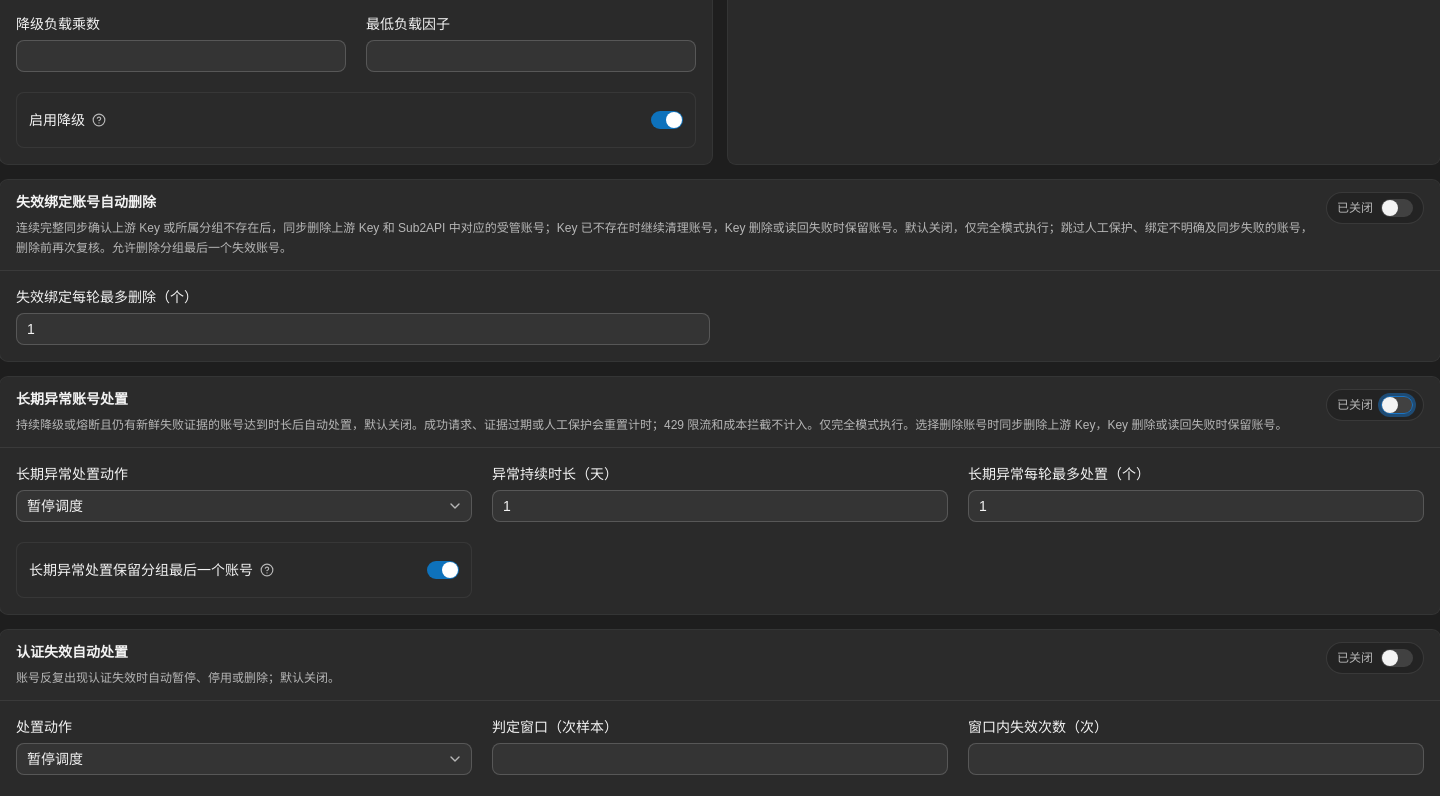
Test: 开关支持键盘切换，修改时长和动作只更新长期异常配置
(page scrolled)
Type keys " "
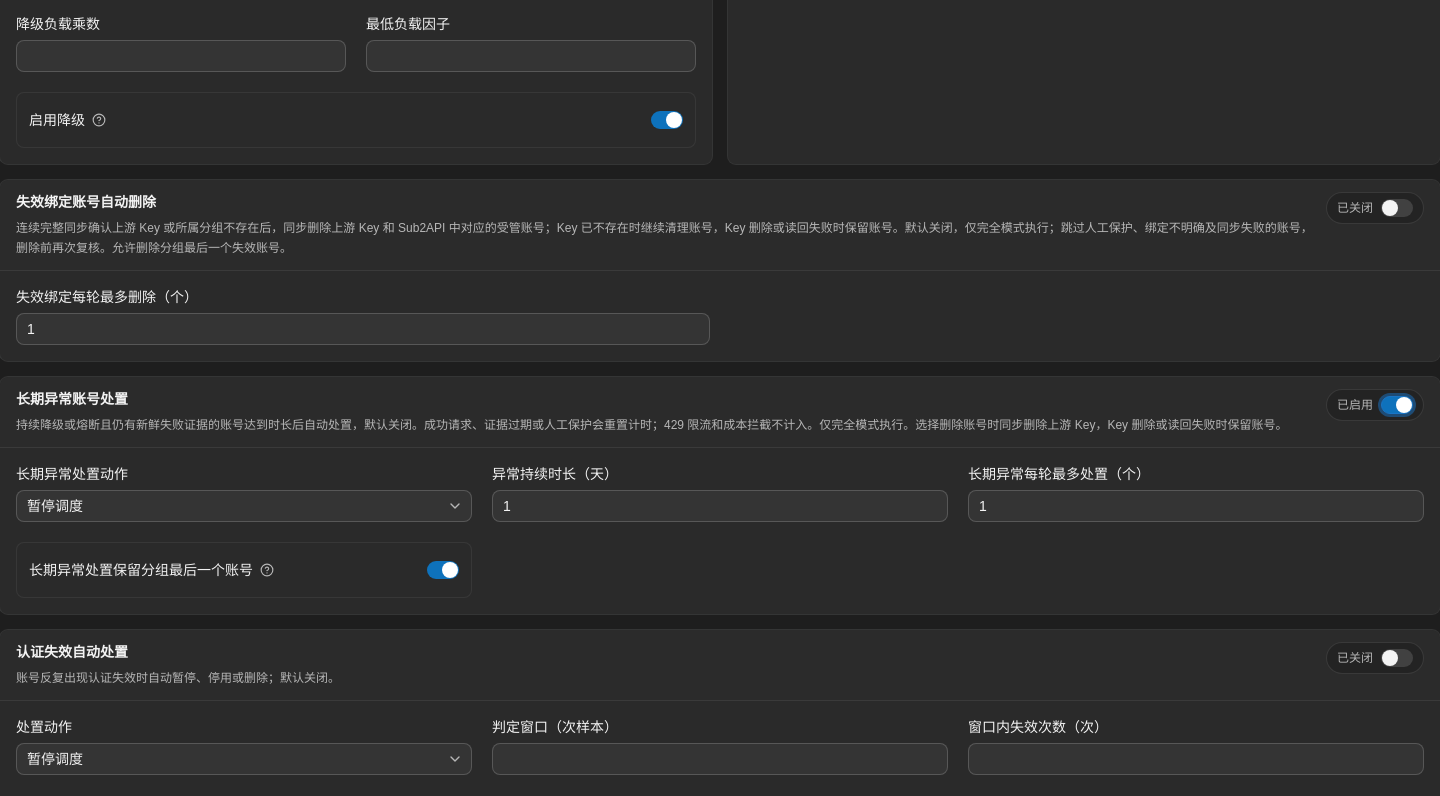
Check: the switch named "启用长期异常账号处置" is checked, box [1381,396,1413,414]
Replace the text in the number field named "异常持续时长（天）" with "3". click: (720, 506)
box: [492,490,948,522]
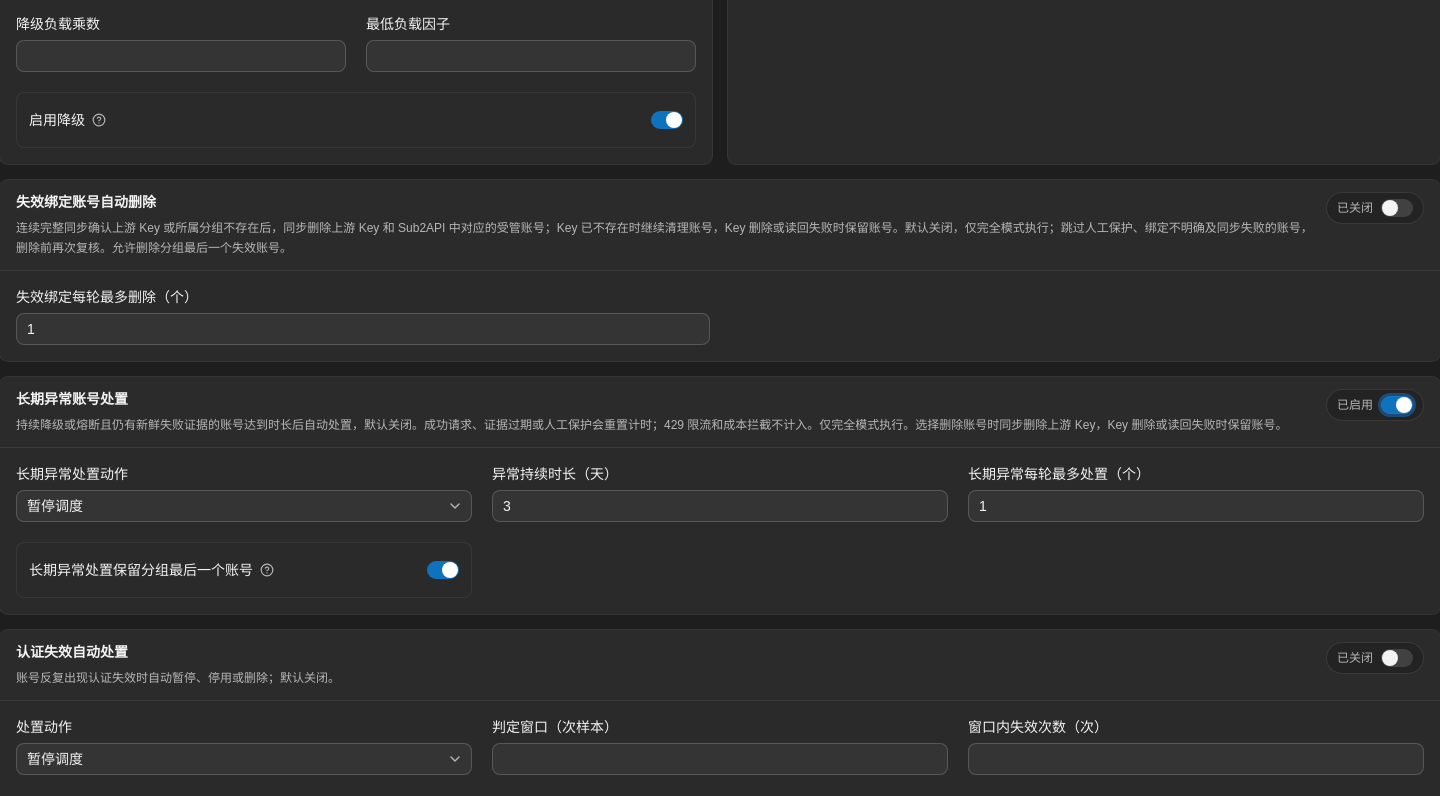
Click the dropdown named "长期异常处置动作". click: (55, 506)
box: [16,490,472,522]
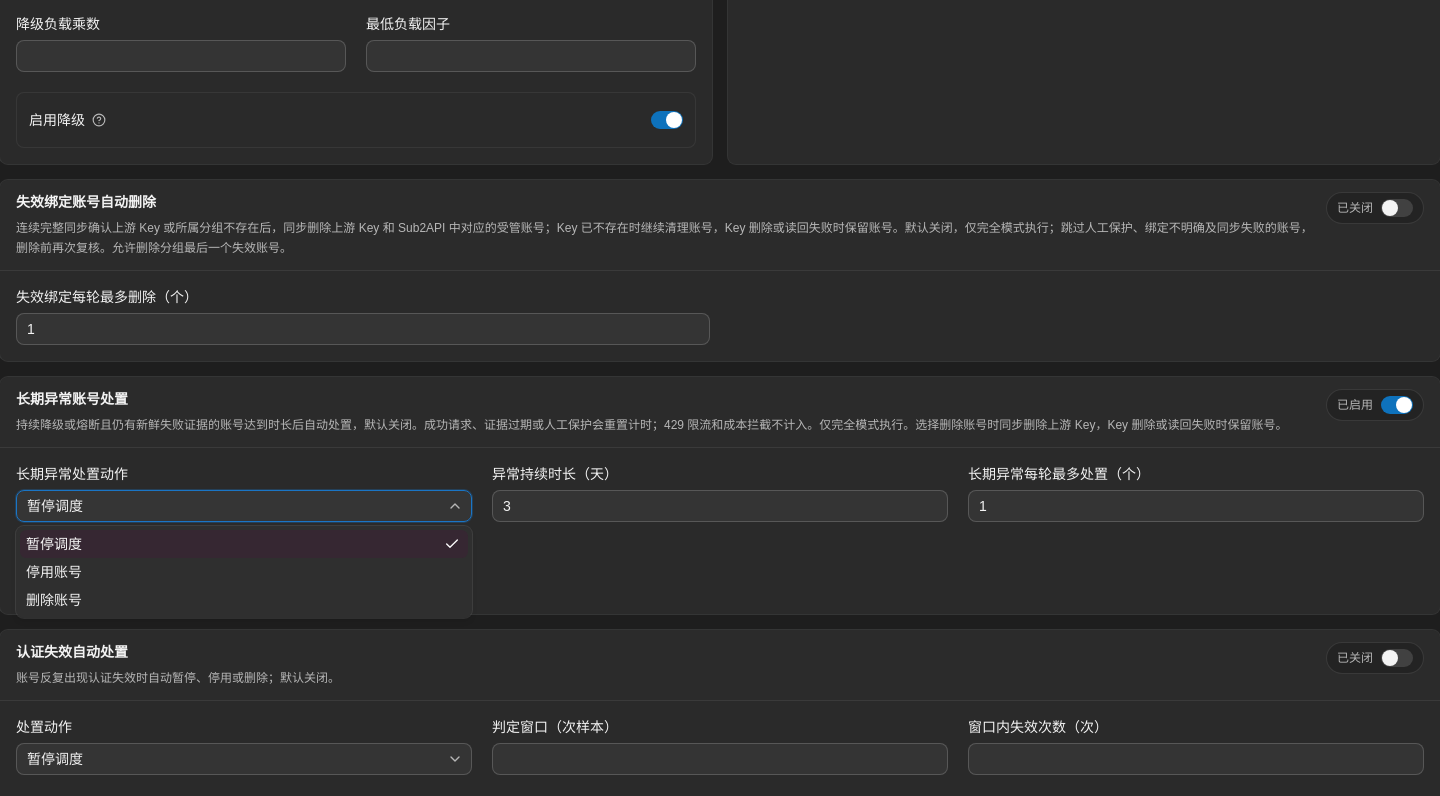
Click the option "停用账号". click: (54, 572)
box: [26,564,82,580]
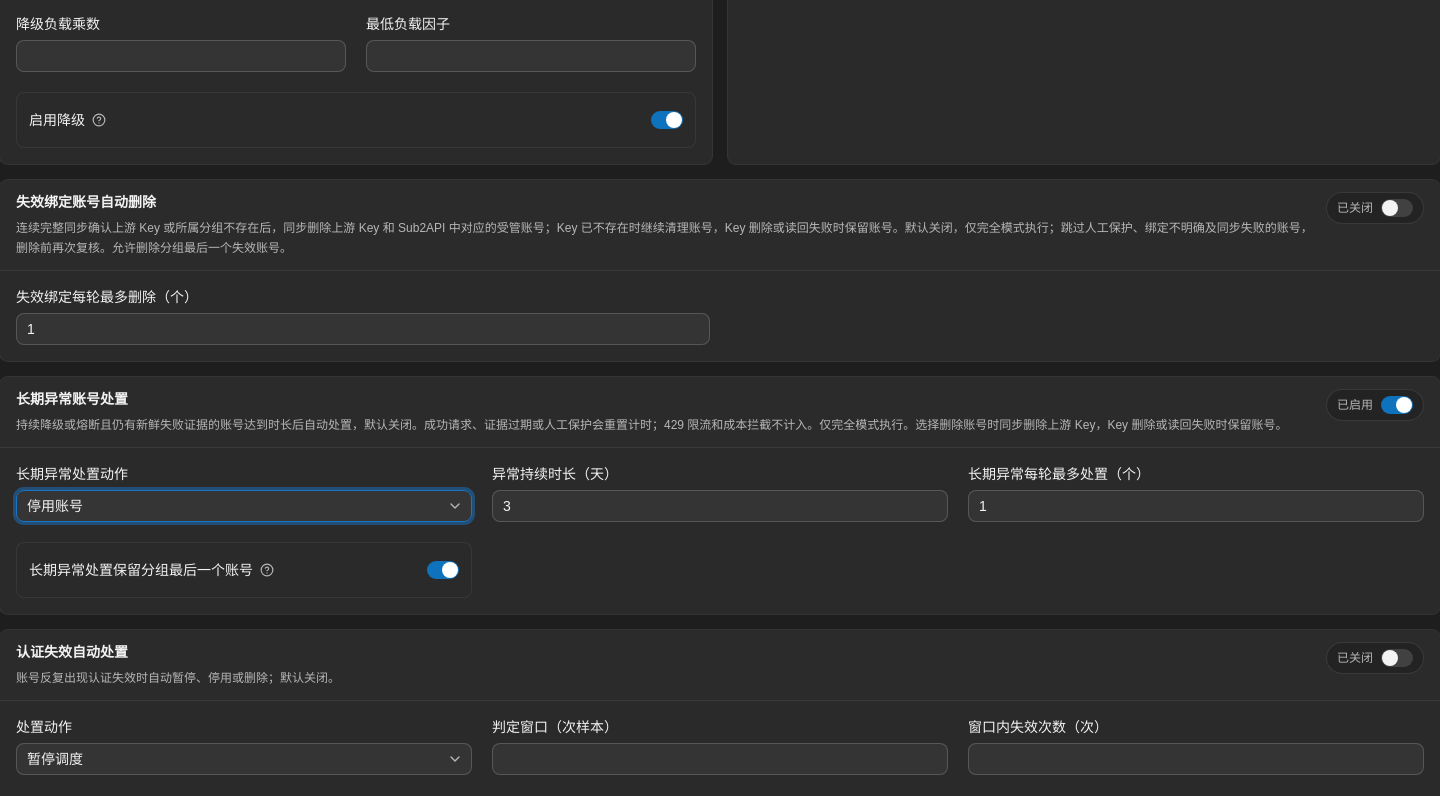
Check: the dropdown named "处置动作" shows "暂停调度", box [16,743,472,775]
Check: the dropdown named "长期异常处置动作" shows "停用账号", box [16,490,472,522]
Check: the dropdown named "长期异常处置动作" is collapsed, box [16,490,472,522]
